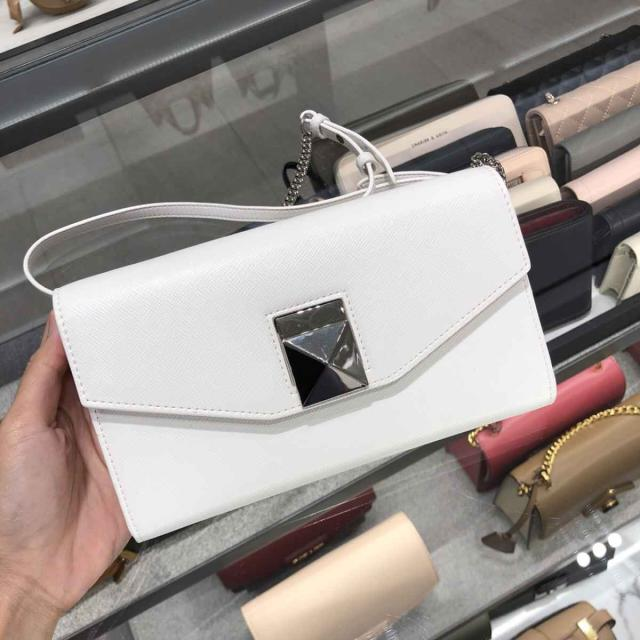Handbag: (51, 166, 554, 539)
